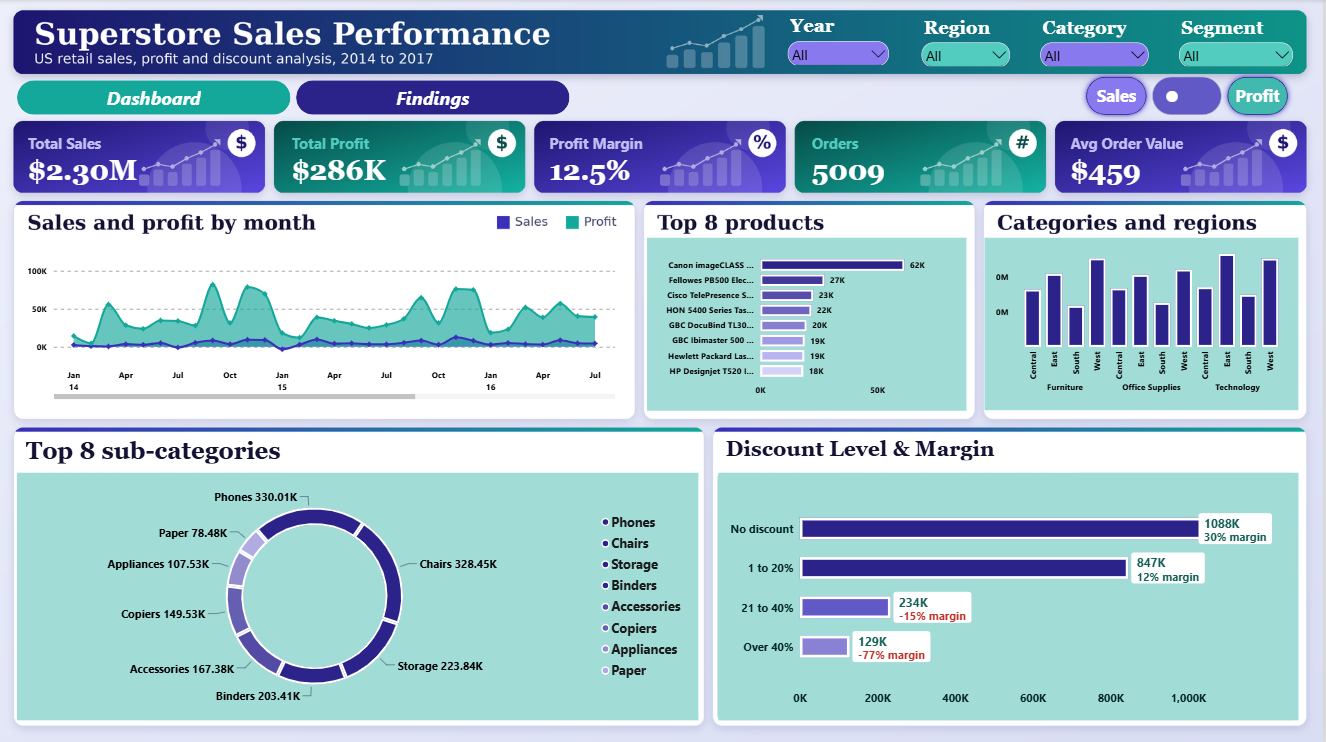

This screenshot's page, from the dashboard's own definition file:
{"tool":"powerbi","page":{"name":"Dashboard","canvas":[1920,1080],"ordinal":1},"visuals":[{"type":"cardVisual","fields":{"Data":["Superstore.Total Sales"]},"box":[29,184.6,345.8,98.8],"z":0},{"type":"cardVisual","fields":{"Data":["Superstore.Total Profit"]},"box":[410.8,184.5,345.8,98.8],"z":1000},{"type":"cardVisual","fields":{"Data":["Superstore.Orders"]},"box":[1164.2,184.5,345.8,98.8],"z":2000},{"type":"cardVisual","fields":{"Data":["Superstore.Profit Margin"]},"box":[783.4,184.5,345.8,98.8],"z":3000},{"type":"cardVisual","fields":{"Data":["Superstore.Avg Order Value"]},"box":[1538.8,184.5,345.8,98.8],"z":4000},{"type":"slicer","fields":{"Values":["Date.Year"]},"box":[1140.8,23,156.4,72],"z":5000},{"type":"slicer","fields":{"Values":["Superstore.Region"]},"box":[1334.2,25.1,137.9,72],"z":6000},{"type":"slicer","fields":{"Values":["Superstore.Category"]},"box":[1505.1,25.1,166.7,72],"z":7000},{"type":"slicer","fields":{"Values":["Superstore.Segment"]},"box":[1706.8,25.1,175,72],"z":8000},{"type":"lineChart","fields":{"Category":["Date.Axis Label"],"Y":["Superstore.Total Profit","Superstore.Total Sales"]},"box":[27.9,346.3,884.4,249.5],"z":9000},{"type":"pageNavigator","box":[29,117.6,800,50],"z":10000},{"type":"shape","box":[734.7,124.9,43.4,36.2],"z":11000},{"type":"clusteredBarChart","fields":{"Category":["Superstore.Product Name"],"Y":["Superstore.Total Sales"]},"box":[941,345.6,462,250],"z":12000},{"type":"clusteredColumnChart","fields":{"Category":["Superstore.Category","Superstore.Region"],"Y":["Superstore.Total Sales"]},"box":[1429.6,345.6,454.2,249.7],"z":14000},{"type":"shape","title":"Top 8 sub-categories ","box":[41.6,633.4,508.5,52.5],"z":16000},{"type":"clusteredBarChart","fields":{"Category":["Superstore.Discount Band"],"Y":["Superstore.Total Sales"]},"box":[1042.4,685.9,839.7,358.3],"z":17000},{"type":"shape","title":"Discount Level & Margin ","box":[1055,633.4,508.5,52.5],"z":18000},{"type":"donutChart","fields":{"Category":["Superstore.Sub-Category"],"Y":["Superstore.Total Sales"]},"box":[29.8,685.2,986,358.3],"z":19000},{"type":"bookmarkNavigator","box":[1672.1,112.2,101.3,56.1],"z":20000},{"type":"clusteredBarChart","fields":{"Category":["Superstore.Discount Band"],"Y":["Superstore.Total Sales"]},"box":[1044.5,685.2,839.7,358.3],"z":21000},{"type":"shape","box":[1773.5,105,103.2,70.6],"z":23002},{"type":"shape","box":[1569,105,103.2,70.6],"z":23003}]}

Visuals, with their boxes in screenshot pixels (x1, y1, x2, y2), scaled from the page's 1920x1080 canvas onto the 1326x742 screenshot:
cardVisual - Superstore.Total Sales: 20/127/259/195
cardVisual - Superstore.Total Profit: 284/127/523/195
cardVisual - Superstore.Orders: 804/127/1043/195
cardVisual - Superstore.Profit Margin: 541/127/780/195
cardVisual - Superstore.Avg Order Value: 1063/127/1302/195
slicer - Date.Year: 788/16/896/65
slicer - Superstore.Region: 921/17/1017/67
slicer - Superstore.Category: 1039/17/1155/67
slicer - Superstore.Segment: 1179/17/1300/67
lineChart - Date.Axis Label x Superstore.Total Profit: 19/238/630/409
pageNavigator: 20/81/573/115
shape: 507/86/537/111
clusteredBarChart - Superstore.Product Name x Superstore.Total Sales: 650/237/969/409
clusteredColumnChart - Superstore.Category x Superstore.Region: 987/237/1301/409
"Top 8 sub-categories " shape: 29/435/380/471
clusteredBarChart - Superstore.Discount Band x Superstore.Total Sales: 720/471/1300/717
"Discount Level & Margin " shape: 729/435/1080/471
donutChart - Superstore.Sub-Category x Superstore.Total Sales: 21/471/702/717
bookmarkNavigator: 1155/77/1225/116
clusteredBarChart - Superstore.Discount Band x Superstore.Total Sales: 721/471/1301/717
shape: 1225/72/1296/121
shape: 1084/72/1155/121
